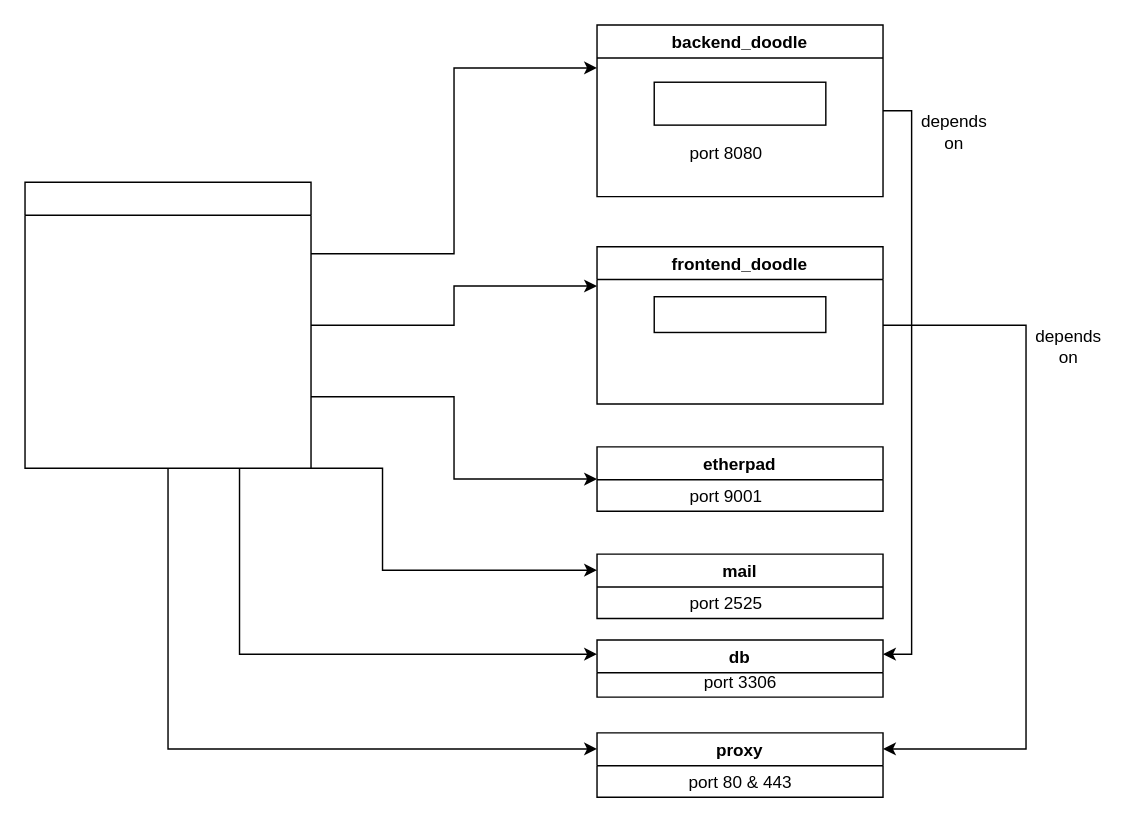
This 1137x822 diagram has some shape labels left out. The centre of each missing label's shape, as x and y in pixels:
"/api" belongs at (739,103).
"/front" belongs at (739,313).
"docker-compose" belongs at (167,324).
